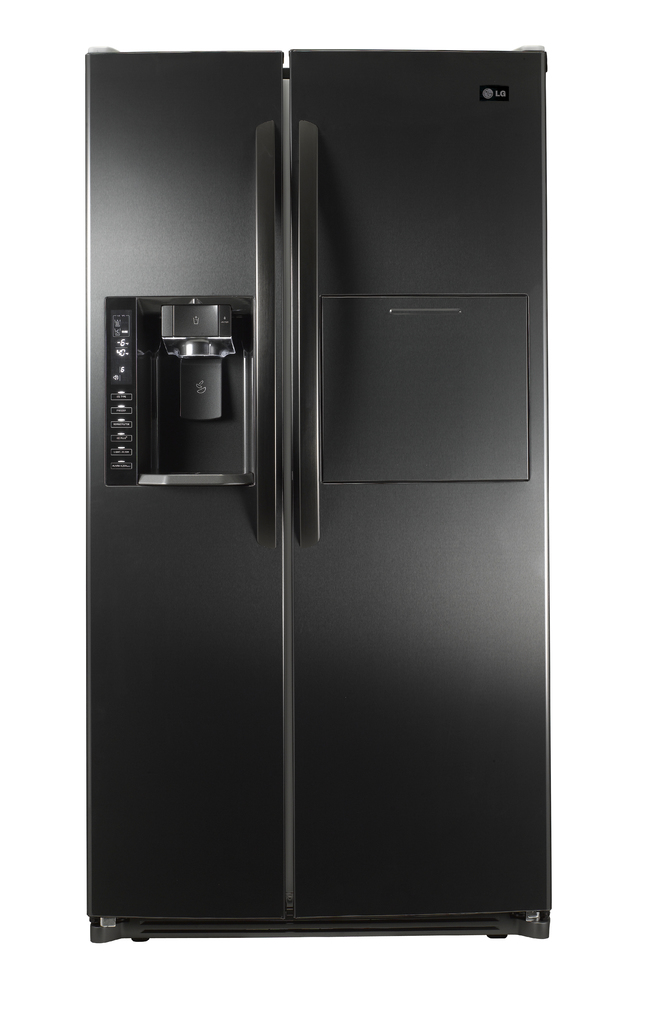handle: (294, 115, 330, 543), (249, 117, 278, 553)
refrigerator door: (293, 61, 548, 933), (86, 51, 284, 923)
